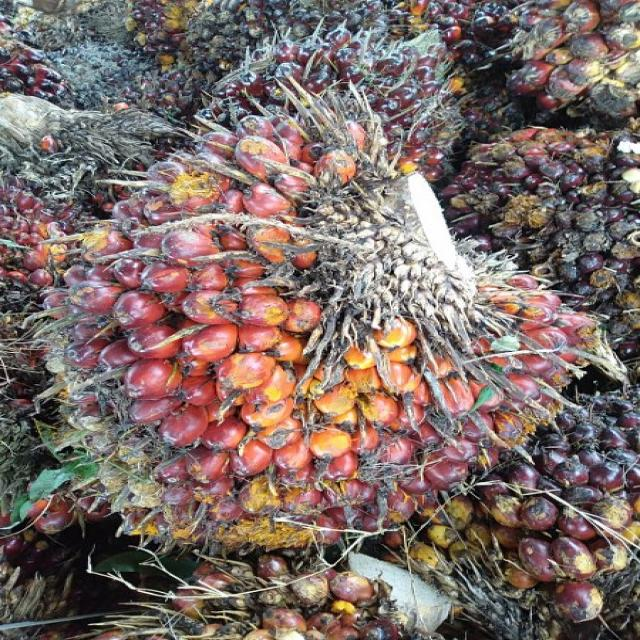fraksi 3: (43, 34, 608, 546)
